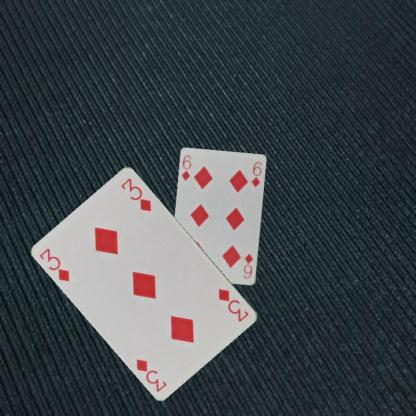3d: (37, 246, 72, 283), (216, 286, 250, 324)
6d: (179, 153, 193, 182), (241, 251, 254, 280)
